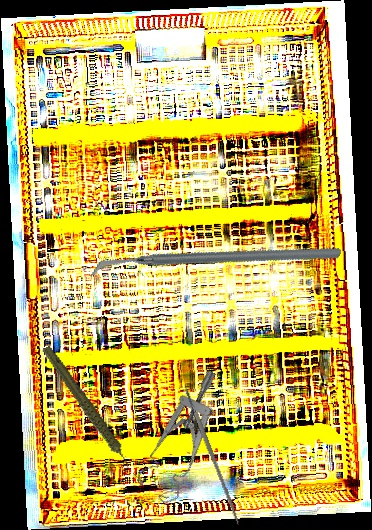Chopper: (87, 167, 343, 358)
Handpiece: (40, 334, 133, 485)
Scalpel Handle: (183, 386, 242, 526)
Speculum: (113, 368, 260, 511)
